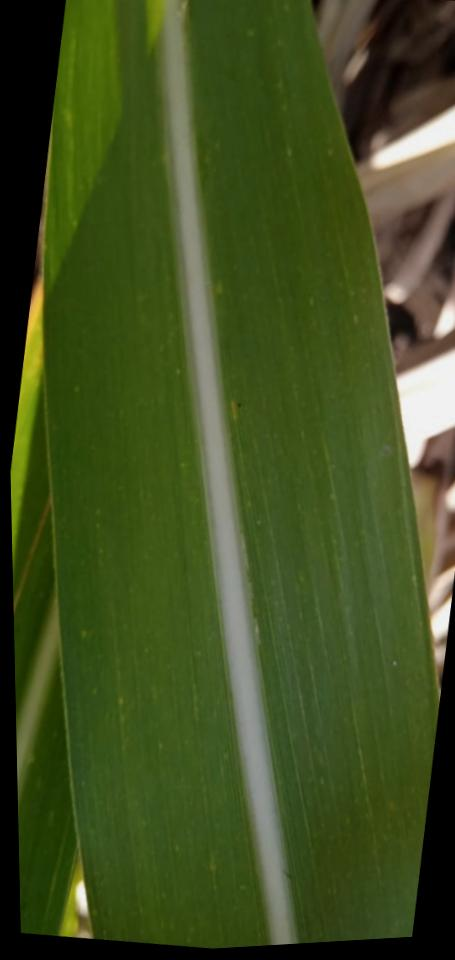Healthy: (39, 0, 439, 949)
